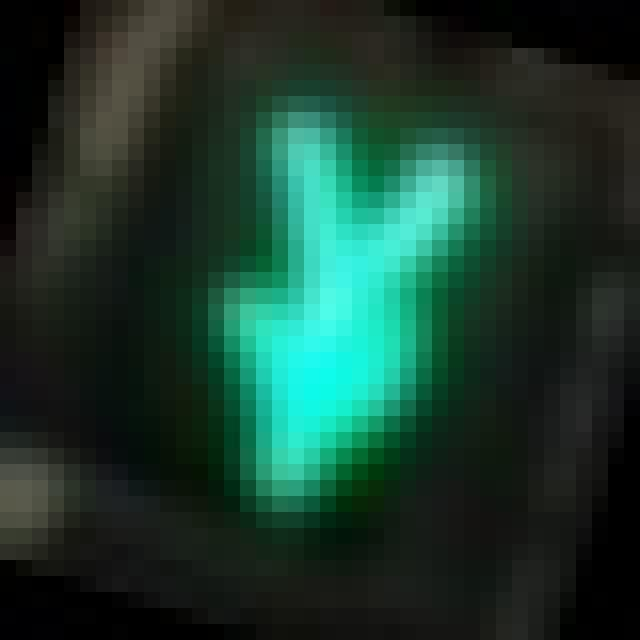geen-crossing: (112, 48, 496, 544)
